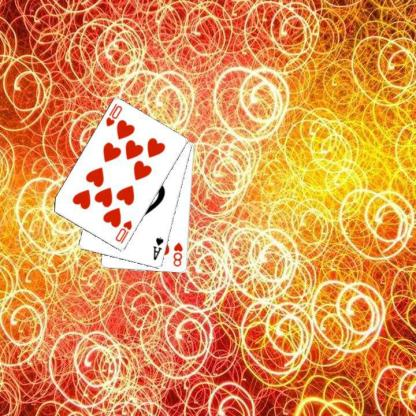10H: (112, 218, 134, 245), (103, 101, 124, 128)
8H: (171, 240, 184, 268)
AS: (150, 234, 164, 262)
